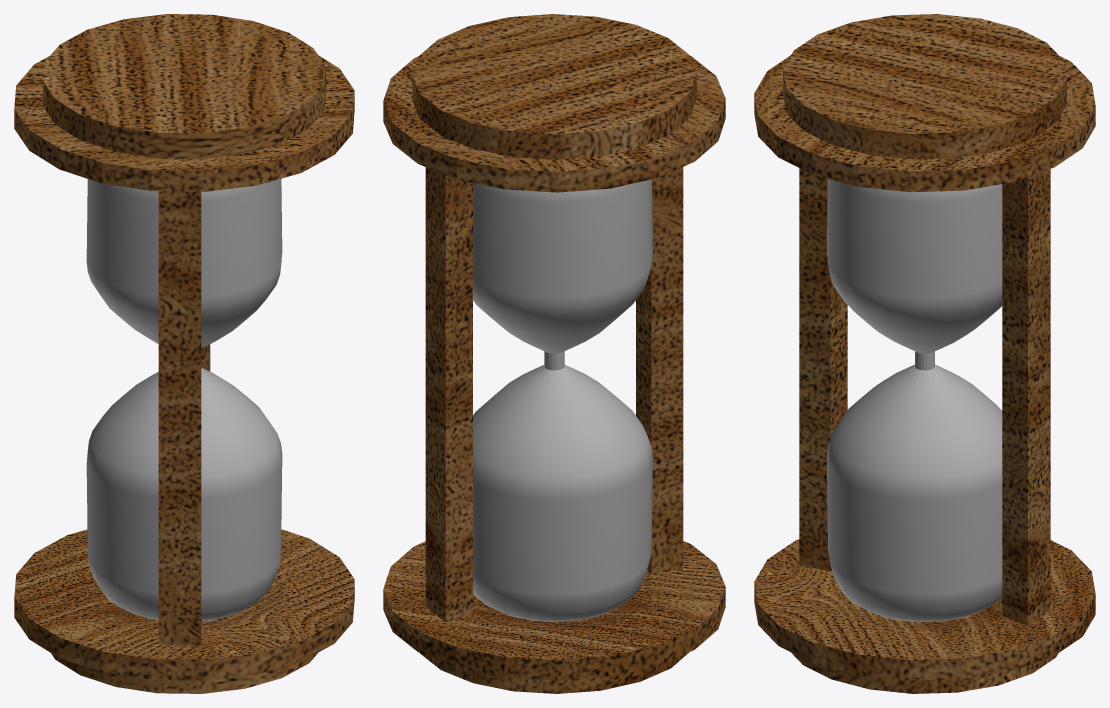
The model's file is Hourglass.fbx.
The picture shows the model from 3 angles, left to right: view 1: azimuth 30°, elevation 25°; view 2: azimuth 150°, elevation 25°; view 3: azimuth 270°, elevation 25°; orthographic projection.
Visible parts, largest first — view 1: Hourglass:Stand, Hourglass:Hourglass; view 2: Hourglass:Stand, Hourglass:Hourglass; view 3: Hourglass:Stand, Hourglass:Hourglass.
Boxes of the visible parts, bbox=[...] form: Hourglass:Stand: bbox=[14, 14, 354, 693]; Hourglass:Hourglass: bbox=[86, 179, 282, 621]; Hourglass:Stand: bbox=[383, 14, 725, 693]; Hourglass:Hourglass: bbox=[473, 179, 652, 622]; Hourglass:Stand: bbox=[754, 14, 1095, 693]; Hourglass:Hourglass: bbox=[827, 179, 1002, 622].
Size of the model in its own units: 0.1979 by 0.3582 by 0.1979.
